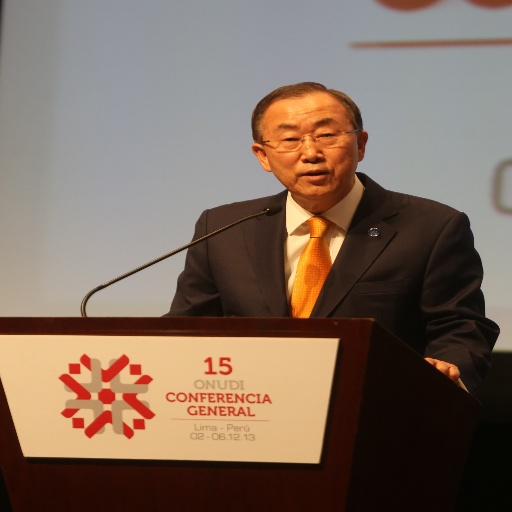hand: (432, 361, 492, 399)
